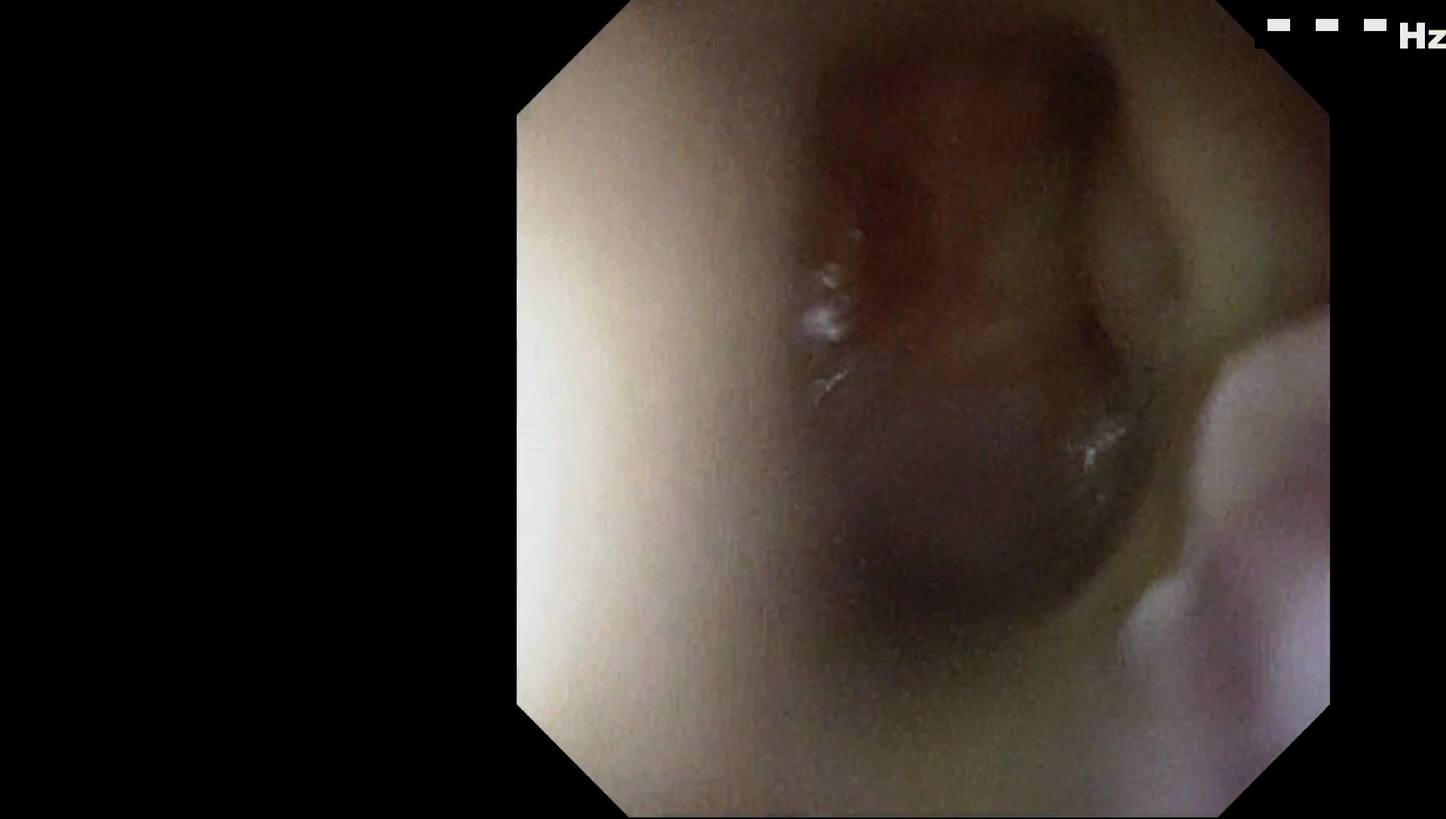close_wall: (521, 119, 876, 700)
next: (786, 482, 1105, 674), (987, 19, 1147, 177)
